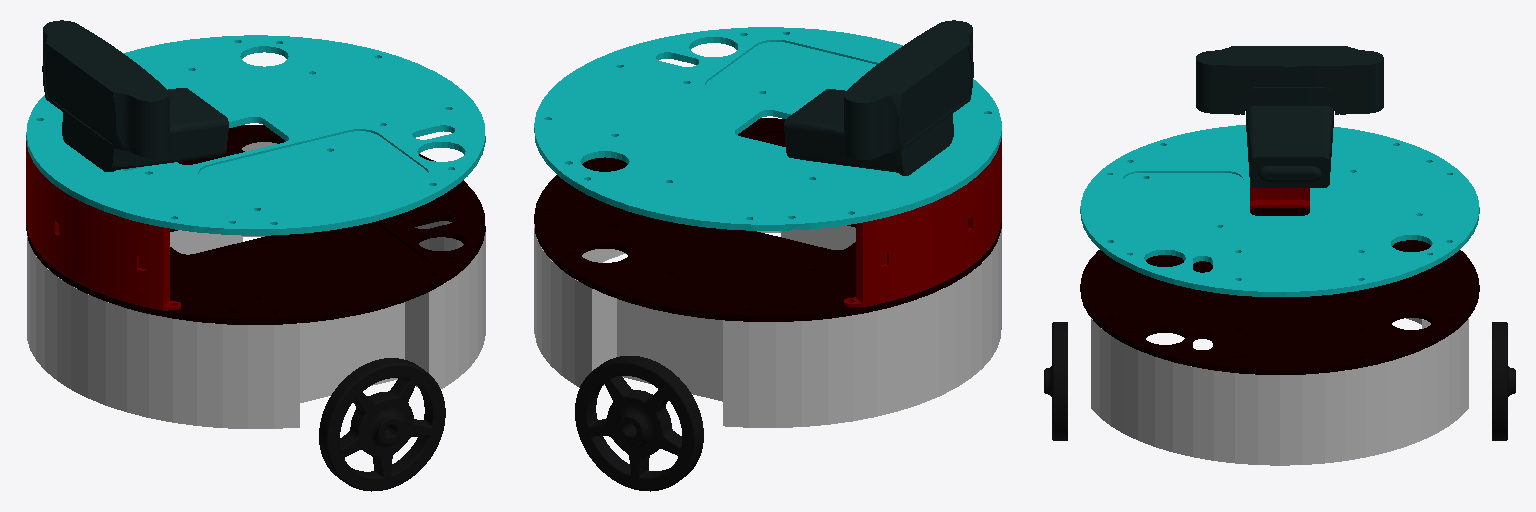
URDF robot description (colmibot):
<?xml version="1.0"?>
<robot name="colmibot">

  <link name="base_footprint"/>

  <!-- JOINT PRINCIPAL -->
  <joint name="base_joint" type="fixed">
    <parent link="base_footprint"/>
    <child link="base_link"/>
    <origin xyz="0 0 0.03" rpy="0 0 0"/> 
  </joint>

  <!-- CHASIS (BODY) -->
  <link name="base_link">
    <inertial>
      <origin xyz="0 0.025 0" rpy="0 0 0"/>
      <mass value="0.084"/>
      <inertia ixx="0.000381" ixy="0.0" ixz="0.0" iyy="0.000741" iyz="0.0" izz="0.000394"/>
    </inertial>
    <visual>
      <origin xyz="0 0 0" rpy="1.5708 0 0"/>
      <geometry>
        <mesh filename="package://robot_description/meshes/CLM-Body.stl" scale="0.001 0.001 0.001" name="body_mesh"/>
      </geometry>
      <material name="light_gray">
        <color rgba="0.8 0.8 0.8 1"/>
      </material>
    </visual>
    <collision>
      <!-- CORRECCIÓN: Subimos la caja 5cm para que el "suelo" de la caja no levante las llantas -->
      <origin xyz="0 0 0.05" rpy="0 0 0"/>
      <geometry>
        <box size="0.2 0.15 0.1"/>
      </geometry>
    </collision>
  </link>

  <!-- LLANTA IZQUIERDA -->
  <joint name="wheel_left_joint" type="continuous">
    <parent link="base_link"/>
    <child link="wheel_left_link"/>
    <!-- El joint se mantiene en 0. El eje de giro natural es Y -->
    <origin xyz="0 0.11 0" rpy="0 0 0"/> 
    <axis xyz="0 1 0"/>
  </joint>

  <link name="wheel_left_link">
    <inertial>
      <origin xyz="0 0 0" rpy="0 0 0"/>
      <mass value="0.0195"/>
      <inertia ixx="0.0000047" ixy="0.0" ixz="0.0" iyy="0.0000091" iyz="0.0" izz="0.0000047"/>
    </inertial>
    <visual>
      <!-- El dibujo se mantiene en 0 para heredar el eje Y natural -->
      <origin xyz="0 0 0" rpy="0 0 0"/>
      <geometry>
        <mesh filename="package://robot_description/meshes/CLM-Llanta60mmD.stl" scale="0.001 0.001 0.001" name="wheel_l_mesh"/>
      </geometry>
      <material name="black">
        <color rgba="0.1 0.1 0.1 1"/>
      </material>
    </visual>
    <collision>
      <!-- Rotamos el cilindro nativo de Gazebo (Z) 90 grados para que apunte en Y como una llanta -->
      <origin xyz="0 0 0" rpy="1.5708 0 0"/>
      <geometry>
        <cylinder radius="0.03" length="0.02"/>
      </geometry>
    </collision>
  </link>

  <!-- LLANTA DERECHA -->
  <joint name="wheel_right_joint" type="continuous">
    <parent link="base_link"/>
    <child link="wheel_right_link"/>
    <origin xyz="0 -0.11 0" rpy="0 0 0"/> 
    <axis xyz="0 1 0"/>
  </joint>

  <link name="wheel_right_link">
    <inertial>
      <origin xyz="0 0 0" rpy="0 0 0"/>
      <mass value="0.0195"/>
      <inertia ixx="0.0000047" ixy="0.0" ixz="0.0" iyy="0.0000091" iyz="0.0" izz="0.0000047"/>
    </inertial>
    <visual>
      <!-- Rotamos 180 grados en Z para que la cara exterior apunte hacia afuera de este lado -->
      <origin xyz="0 0 0" rpy="0 0 3.1416"/>
      <geometry>
        <mesh filename="package://robot_description/meshes/CLM-Llanta60mmD.stl" scale="0.001 0.001 0.001" name="wheel_r_mesh"/>
      </geometry>
      <material name="black">
        <color rgba="0.1 0.1 0.1 1"/>
      </material>
    </visual>
    <collision>
      <origin xyz="0 0 0" rpy="1.5708 0 0"/>
      <geometry>
        <cylinder radius="0.03" length="0.02"/>
      </geometry>
    </collision>
  </link>
  
  <!-- 1. PLATO INFERIOR -->
  <joint name="plato_inferior_joint" type="fixed">
    <parent link="base_link"/>
    <child link="plato_inferior_link"/>
    <origin xyz="0 0 0" rpy="0 0 0"/>
  </joint>

  <link name="plato_inferior_link">
    <inertial>
      <origin xyz="0 0 0" rpy="0 0 0"/>
      <mass value="0.0821"/>
      <inertia ixx="0.000213" ixy="0.0" ixz="0.0" iyy="0.000223" iyz="0.0" izz="0.000436"/>
    </inertial>
    <visual>
      <origin xyz="0 0 0.05" rpy="1.57079632679 0 0"/>
      <geometry>
        <mesh filename="package://robot_description/meshes/CLM-Plato.stl" scale="1 1 1" name="plato_inferior_mesh"/>
      </geometry>
      <material name="plato_inferior_gray">
        <color rgba="0.1 0 0 1"/>
      </material>
    </visual>
  </link>

  <!-- 2. HOLDER -->
  <joint name="holder_joint" type="fixed">
    <parent link="plato_inferior_link"/>
    <child link="holder_link"/>
    <origin xyz="0 0 0" rpy="0 0 0"/>
  </joint>

  <link name="holder_link">
    <inertial>
      <origin xyz="0 0 0" rpy="0 0 0"/>
      <mass value="0.0136"/>
      <inertia ixx="0.000020" ixy="0.0" ixz="0.0" iyy="0.0000025" iyz="0.0" izz="0.000019"/>
    </inertial>
    <visual>
      <origin xyz="0 0 0.053" rpy="0 0 0"/>
      <geometry>
        <mesh filename="package://robot_description/meshes/CLM-Holder3TOF.stl" scale="1 1 1" name="holder_mesh"/>
      </geometry>
      <material name="holder_gray">
        <color rgba="0.5 0 0 1"/>
      </material>
    </visual>
  </link>

  <!-- 3. PLATO SUPERIOR -->
  <joint name="plato_superior_joint" type="fixed">
    <parent link="holder_link"/>
    <child link="plato_superior_link"/>
    <origin xyz="0 0 0.033" rpy="0 0 0"/>
  </joint>

  <link name="plato_superior_link">
    <inertial>
      <origin xyz="0 0 0" rpy="0 0 0"/>
      <mass value="0.0821"/>
      <inertia ixx="0.000213" ixy="0.0" ixz="0.0" iyy="0.000223" iyz="0.0" izz="0.000436"/>
    </inertial>
    <visual>
      <origin xyz="0 0 0.06" rpy="1.57079632679 0 0"/>
      <geometry>
        <mesh filename="package://robot_description/meshes/CLM-Plato.stl" scale="1 1 1" name="plato_superior_mesh"/>
      </geometry>
      <material name="plato_superior_gray">
        <color rgba="0.1 0.75 0.75 1"/>
      </material>
    </visual>
  </link>

  <!-- 4. CÁMARA -->
  <joint name="camera_mount_joint" type="fixed">
    <parent link="plato_superior_link"/>
    <child link="camera_link"/>
    <origin xyz="0 0 0" rpy="0 0 0"/>
  </joint>

  <link name="camera_link">
    <inertial>
      <origin xyz="0 0 0" rpy="0 0 0"/>
      <mass value="0.1814"/>
      <inertia ixx="0.000070" ixy="0.0" ixz="0.0" iyy="0.000130" iyz="0.0" izz="0.000124"/>
    </inertial>
    <visual>
      <origin xyz="-0.18 0 0.098" rpy="1.57079632679 0 1.57079632679"/>
      <geometry>
        <mesh filename="package://robot_description/meshes/CLM-LogitechC920Montaj.stl" scale="0.001 0.001 0.001" name="camera_mesh"/>
      </geometry>
      <material name="camera_dark_gray">
        <color rgba="0.1 0.15 0.15 1"/>
      </material>
    </visual>
  </link>

  <!-- PLUGIN DE CONTROL DIFERENCIAL PARA GAZEBO HARMONIC -->
  <gazebo>
    <plugin filename="gz-sim-diff-drive-system" name="gz::sim::systems::DiffDrive">
      <left_joint>wheel_left_joint</left_joint>
      <right_joint>wheel_right_joint</right_joint>
      <wheel_separation>0.22</wheel_separation>
      <wheel_radius>0.03</wheel_radius>
      <max_linear_acceleration>1.0</max_linear_acceleration>
      <topic>cmd_vel</topic>
      <odom_publish_frequency>50</odom_publish_frequency>
      <frame_id>odom</frame_id>
      <child_frame_id>base_footprint</child_frame_id>
    </plugin>
  </gazebo>

</robot>

--- What the picture shows (computed from the rendered views, not written in the file) ---
The picture shows the robot from 3 angles, left to right: view 1: azimuth 30°, elevation 25°; view 2: azimuth 150°, elevation 25°; view 3: azimuth 270°, elevation 25°; orthographic projection.
Model colmibot with 8 links and 7 joints (2 continuous, 5 fixed), rooted at base_footprint, posed all joints at 0.
Visible links, largest first — view 1: plato_superior_link, base_link, plato_inferior_link, camera_link, holder_link, wheel_right_link; view 2: plato_superior_link, base_link, plato_inferior_link, camera_link, holder_link, wheel_left_link; view 3: plato_superior_link, base_link, plato_inferior_link, camera_link, wheel_left_link, wheel_right_link, holder_link.
Boxes of the visible links, bbox=[...] form: plato_superior_link: bbox=[26, 35, 485, 235]; base_link: bbox=[27, 142, 485, 428]; plato_inferior_link: bbox=[26, 125, 485, 324]; camera_link: bbox=[42, 20, 228, 171]; holder_link: bbox=[26, 141, 180, 310]; wheel_right_link: bbox=[319, 358, 445, 491]; plato_superior_link: bbox=[534, 27, 1001, 230]; base_link: bbox=[534, 224, 1001, 427]; plato_inferior_link: bbox=[534, 118, 1001, 321]; camera_link: bbox=[784, 20, 973, 175]; holder_link: bbox=[844, 138, 1001, 306]; wheel_left_link: bbox=[575, 356, 703, 491]; plato_superior_link: bbox=[1080, 125, 1479, 296]; base_link: bbox=[1091, 318, 1468, 465]; plato_inferior_link: bbox=[1080, 208, 1479, 374]; camera_link: bbox=[1196, 46, 1383, 187]; wheel_left_link: bbox=[1492, 322, 1515, 440]; wheel_right_link: bbox=[1044, 322, 1067, 440]; holder_link: bbox=[1250, 185, 1309, 208].
Bounding box of the posed robot: 0.2 × 0.236 × 0.1752 m (x, y, z).
Meshes: 5 distinct files referenced, 7 mesh visuals loaded (5 binary STL).
